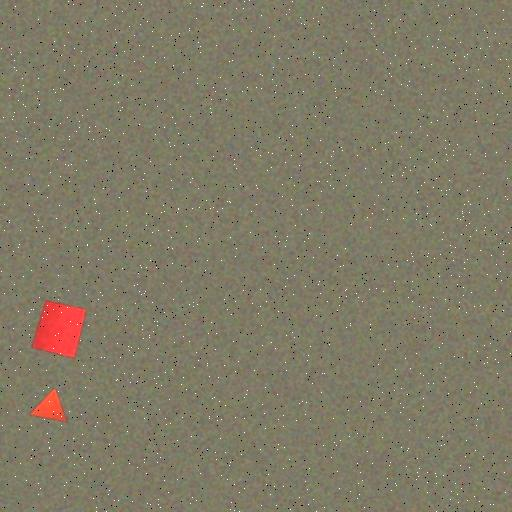RED_SQUARE: (31, 299, 87, 359)
